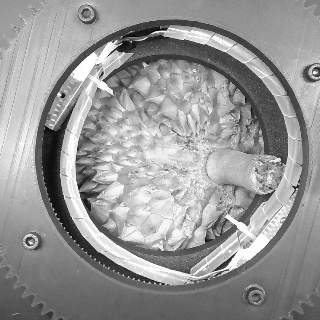base: (199, 145, 237, 188)
end: (252, 155, 286, 195)
